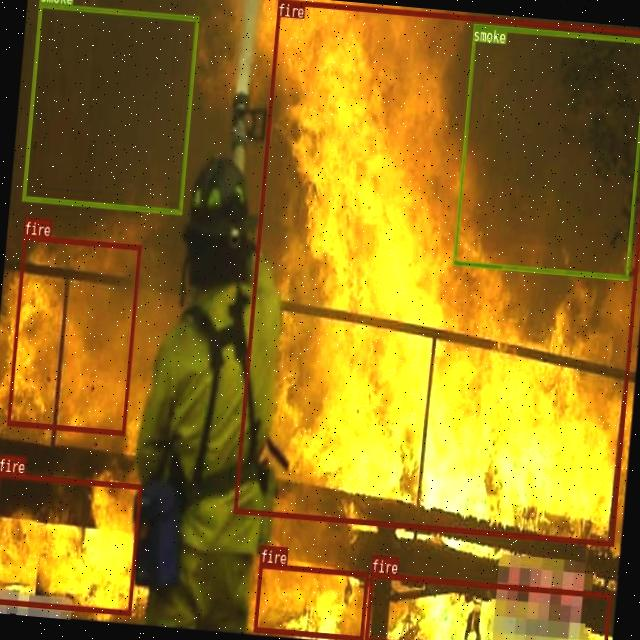fire: (232, 0, 640, 544), (6, 234, 140, 434), (0, 470, 141, 614), (363, 571, 610, 640), (253, 562, 368, 640)
smoke: (452, 23, 640, 279), (21, 1, 198, 214)
